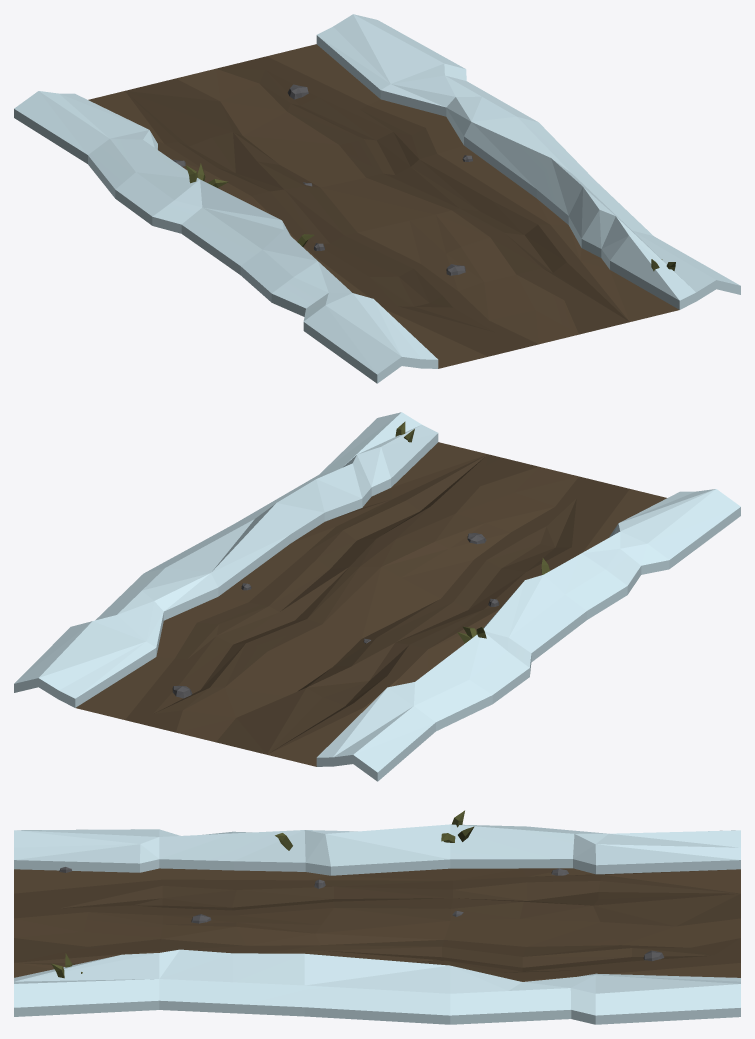
Rendered from SM_Env_Road_Straight_01_Snow.gltf.
3 renders of one model, top to bottom at view 1: azimuth 30°, elevation 25°; view 2: azimuth 150°, elevation 25°; view 3: azimuth 270°, elevation 25°, orthographic.
Parts seen in each view (by area): view 1: SM_Env_Road_Straight_01_Snow; view 2: SM_Env_Road_Straight_01_Snow; view 3: SM_Env_Road_Straight_01_Snow.
Part boxes in pixels (box(x1,y1,x2,y2)): SM_Env_Road_Straight_01_Snow: box(14, 14, 740, 383); SM_Env_Road_Straight_01_Snow: box(14, 412, 740, 781); SM_Env_Road_Straight_01_Snow: box(14, 810, 740, 1024).
Size of the model in its own units: 3.69 by 0.499 by 6.
Materials: 1 (1 with a texture image).
